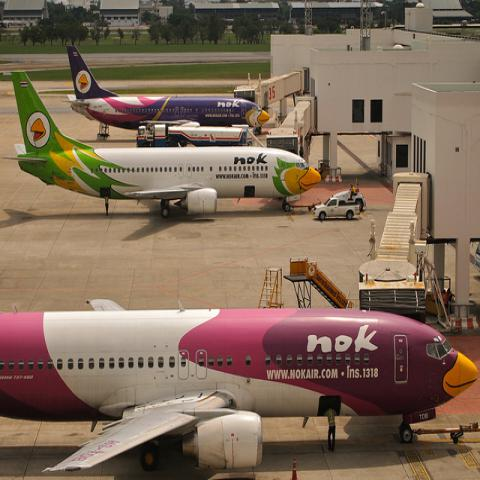truck: (313, 197, 360, 221), (333, 189, 366, 210)
